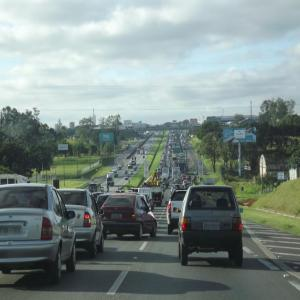Vehicle-registration-plate: (1, 227, 23, 237), (204, 223, 221, 231), (113, 215, 122, 219)
